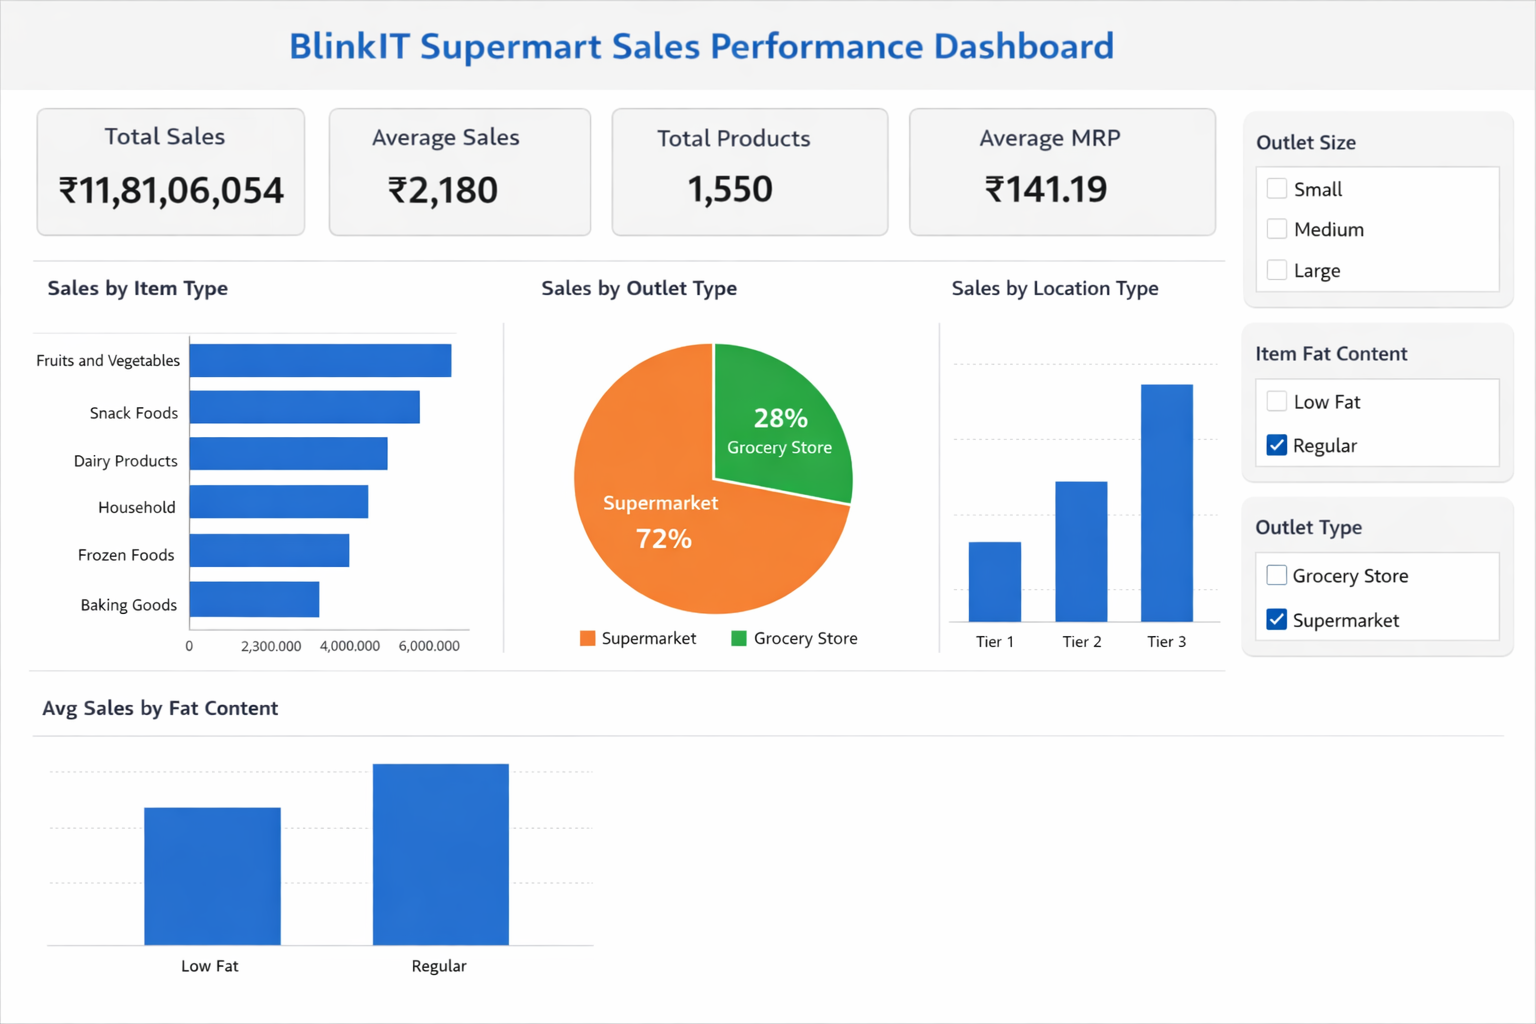

Layout of this report page (visuals, bound fields, positions):
{"tool":"powerbi","page":{"name":"Page 1","canvas":[1280,720],"ordinal":0},"visuals":[{"type":"cardVisual","title":"Total Sales","fields":{"Data":["Sum(BlinkIT-Grocery-Data.Sales)"]},"box":[0,90.9,183.6,96],"z":0},{"type":"cardVisual","title":"Avg Sales","fields":{"Data":["Avg(BlinkIT-Grocery-Data.Sales)"]},"box":[488.4,92.6,166.7,96],"z":1000},{"type":"pieChart","title":"Sales by Outlet Type","fields":{"Category":["BlinkIT-Grocery-Data.Outlet Type"],"Y":["Sum(BlinkIT-Grocery-Data.Sales)"]},"box":[631.6,313.3,346.9,235.8],"z":3000},{"type":"columnChart","title":"Tier-wise Sales Performance","fields":{"Y":["Sum(BlinkIT-Grocery-Data.Sales)"],"Category":["BlinkIT-Grocery-Data.Outlet Location Type"]},"box":[985.3,269.5,281.3,279.6],"z":4000},{"type":"barChart","title":"Impact of Fat Content on Sales","fields":{"Y":["Avg(BlinkIT-Grocery-Data.Sales)"],"Category":["BlinkIT-Grocery-Data.Item Fat Content"]},"box":[202.1,569.3,318.3,151.6],"z":5000},{"type":"slicer","title":"Outlet Size","fields":{"Values":["BlinkIT-Grocery-Data.Outlet Size"]},"box":[850.5,190.3,128,117.9],"z":6000},{"type":"slicer","title":"Outlet type","fields":{"Values":["BlinkIT-Grocery-Data.Outlet Type"]},"box":[1062.7,85.9,203.8,151.6],"z":7000},{"type":"slicer","title":"Item Cotent","fields":{"Values":["BlinkIT-Grocery-Data.Item Fat Content"]},"box":[892.6,92.6,160,102.7],"z":8000},{"type":"cardVisual","title":"Avg Rating","fields":{"Data":["Avg(BlinkIT-Grocery-Data.Rating)"]},"box":[202.1,92.6,138.1,96],"z":9000},{"type":"cardVisual","title":"Item Count","fields":{"Data":["Count(BlinkIT-Grocery-Data.Item Type)"]},"box":[348.6,92.6,121.3,96],"z":10000},{"type":"lineChart","title":"Outlet Establishment Year","fields":{"Category":["BlinkIT-Grocery-Data.Outlet Establishment Year"],"Y":["Sum(BlinkIT-Grocery-Data.Outlet Establishment Year)"]},"box":[532.2,569.3,734.3,151.6],"z":11000},{"type":"clusteredColumnChart","fields":{"Category":["BlinkIT-Grocery-Data.Outlet Type"],"Y":["Sum(BlinkIT-Grocery-Data.Rating)"]},"box":[202.1,208.8,414.3,357.1],"z":11002},{"type":"slicer","title":"Location Type","fields":{"Values":["BlinkIT-Grocery-Data.Outlet Location Type"]},"box":[640,188.6,168.4,119.6],"z":11003},{"type":"slicer","title":"Item Type","fields":{"Values":["BlinkIT-Grocery-Data.Item Type"]},"box":[0,208.8,190.3,496.8],"z":11004},{"type":"slicer","title":"Establishment Year","fields":{"Values":["BlinkIT-Grocery-Data.Outlet Establishment Year"]},"box":[670.3,89.3,208.8,96],"z":11005},{"type":"textbox","box":[0,0,1280,85.7],"z":11006},{"type":"image","box":[436.7,0,166.3,85.7],"z":11007}]}

Visuals, with their boxes on the page's 1280x720 design canvas (x1, y1, x2, y2). These are canvas units, not pixel positions in the 1536x1024 screenshot, which may show the page scaled, cropped or inside an application window:
"Total Sales" cardVisual: 0,91,184,187
"Avg Sales" cardVisual: 488,93,655,189
"Sales by Outlet Type" pieChart: 632,313,978,549
"Tier-wise Sales Performance" columnChart: 985,270,1267,549
"Impact of Fat Content on Sales" barChart: 202,569,520,721
"Outlet Size" slicer: 850,190,978,308
"Outlet type" slicer: 1063,86,1266,238
"Item Cotent" slicer: 893,93,1053,195
"Avg Rating" cardVisual: 202,93,340,189
"Item Count" cardVisual: 349,93,470,189
"Outlet Establishment Year" lineChart: 532,569,1266,721
clusteredColumnChart - BlinkIT-Grocery-Data.Outlet Type x Sum(BlinkIT-Grocery-Data.Rating): 202,209,616,566
"Location Type" slicer: 640,189,808,308
"Item Type" slicer: 0,209,190,706
"Establishment Year" slicer: 670,89,879,185
textbox: 0,0,1280,86
image: 437,0,603,86
